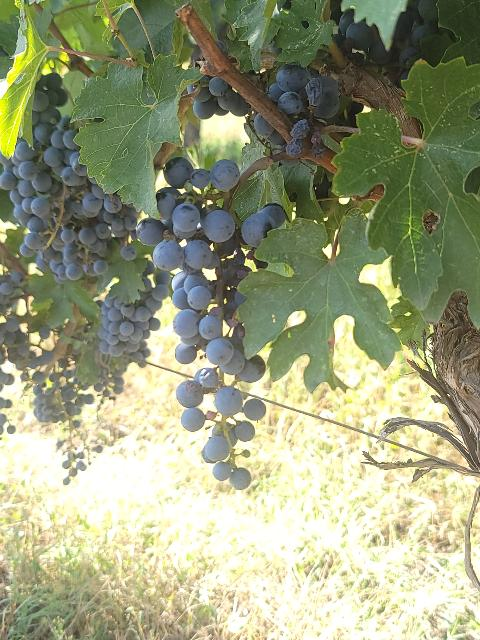grapes: (136, 158, 286, 489), (0, 72, 66, 258), (98, 276, 169, 362)
